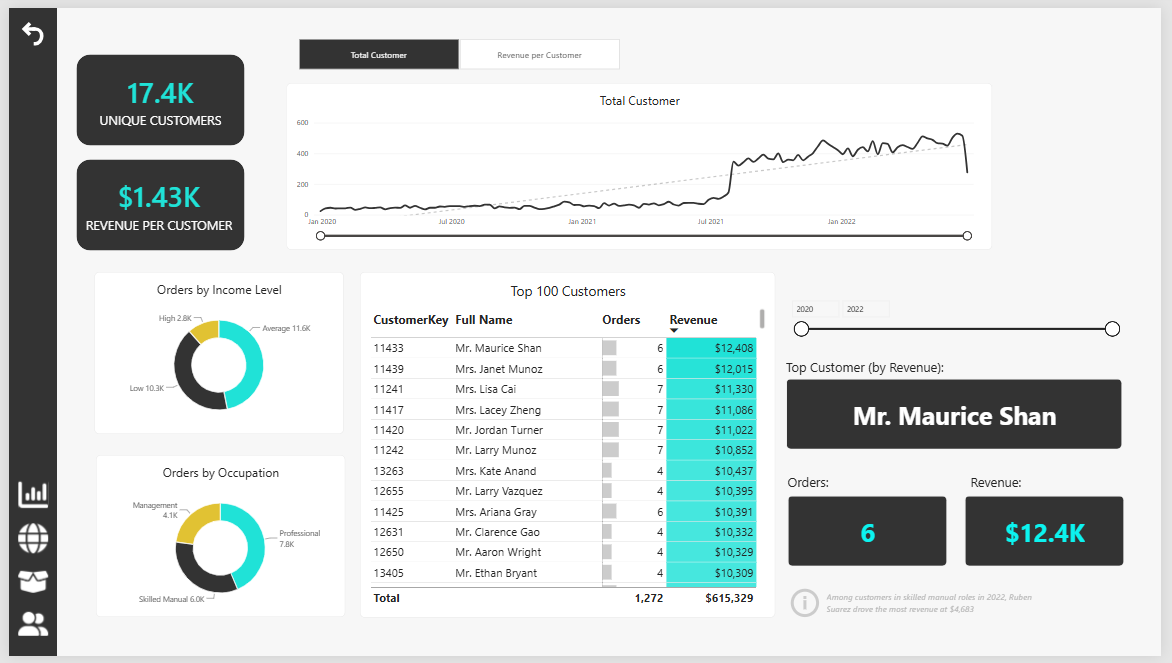

The dashboard page shown, as its layout file describes it:
{"tool":"powerbi","page":{"name":"Customer Detail","canvas":[1920,1080],"ordinal":3},"visuals":[{"type":"shape","box":[0,0,80,1080],"z":0},{"type":"actionButton","box":[0,774,80,72],"z":0,"group":"g3"},{"type":"lineChart","fields":{"Category":["Calendar Lookup.Date Hierarchy.Start of year","Calendar Lookup.Date Hierarchy.Start of month","Calendar Lookup.Date Hierarchy.Start of week","Calendar Lookup.Date Hierarchy.Date"],"Y":["Measure Table.Total Customer"]},"box":[462,126,1176,278],"z":1000},{"type":"actionButton","box":[0,846,80,72],"z":1000,"group":"g3"},{"type":"shape","box":[111.7,78.3,280,151.7],"z":1500,"group":"g1"},{"type":"cardVisual","fields":{"Data":["Measure Table.Total Customer"]},"box":[121.7,110,260,90],"z":1750,"group":"g1"},{"type":"donutChart","title":"Orders by Income Level","fields":{"Category":["Customer Lookup.Income Level"],"Y":["Measure Table.Total Orders"]},"box":[142,440,415,270],"z":2000},{"type":"actionButton","box":[0,918,80,72],"z":2000,"group":"g3"},{"type":"donutChart","title":"Orders by Occupation","fields":{"Category":["Customer Lookup.Occupation"],"Y":["Measure Table.Total Orders"]},"box":[144,746,415,270],"z":3000},{"type":"actionButton","box":[0,990,80,72],"z":3000,"group":"g3"},{"type":"group","id":"g1","title":"Group 1","box":[111.7,78.3,280,151.7],"z":4000},{"type":"shape","box":[111.7,251.7,280,151.7],"z":4000,"group":"g2"},{"type":"cardVisual","fields":{"Data":["Measure Table.Average Revenue per Customer"]},"box":[106.7,281.7,285,92.5],"z":4500,"group":"g2"},{"type":"group","id":"g2","title":"Group 2","box":[106.7,251.7,285,151.7],"z":5000},{"type":"tableEx","title":"Top 100 Customers","fields":{"Values":["Customer Lookup.CustomerKey","Customer Lookup.Full Name","Measure Table.Total Orders","Measure Table.Total Revenue"]},"box":[584,440,692,576],"z":6000},{"type":"cardVisual","fields":{"Data":["Customer Lookup.Full Name (Customer Detail)"]},"box":[1296,618,560,118],"z":7000},{"type":"cardVisual","fields":{"Data":["Measure Table.Total Orders (Customer Detail)"]},"box":[1298.7,813.3,266,118],"z":8000},{"type":"cardVisual","fields":{"Data":["Measure Table.Total Revenue (Customer Detail)"]},"box":[1592.7,813.3,266,118],"z":9000},{"type":"textbox","box":[1296,582,402,58],"z":10000},{"type":"textbox","box":[1296.7,775.7,123.3,58.3],"z":11000},{"type":"textbox","box":[1601.7,775.7,123.3,58.3],"z":12000},{"type":"slicer","fields":{"Values":["Calendar Lookup.Year"]},"box":[1298,482,558,94],"z":13000},{"type":"actionButton","box":[1298,952,454,78],"z":14000},{"type":"actionButton","box":[0,0,80,85],"z":15000},{"type":"group","id":"g3","title":"Navigation Buttons","box":[0,774,80,288],"z":16000},{"type":"slicer","fields":{"Values":["Customer Metric Selection.Customer Metric Selection"]},"box":[462,50,574,54],"z":17000}]}

Visuals, with their boxes on the page's 1920x1080 design canvas (x1, y1, x2, y2). These are canvas units, not pixel positions in the 1172x663 screenshot, which may show the page scaled, cropped or inside an application window:
shape: box(0, 0, 80, 1080)
actionButton: box(0, 774, 80, 846)
lineChart - Calendar Lookup.Date Hierarchy.Start of year x Calendar Lookup.Date Hierarchy.Start of month: box(462, 126, 1638, 404)
actionButton: box(0, 846, 80, 918)
shape: box(112, 78, 392, 230)
cardVisual - Measure Table.Total Customer: box(122, 110, 382, 200)
"Orders by Income Level" donutChart: box(142, 440, 557, 710)
actionButton: box(0, 918, 80, 990)
"Orders by Occupation" donutChart: box(144, 746, 559, 1016)
actionButton: box(0, 990, 80, 1062)
"Group 1" group: box(112, 78, 392, 230)
shape: box(112, 252, 392, 403)
cardVisual - Measure Table.Average Revenue per Customer: box(107, 282, 392, 374)
"Group 2" group: box(107, 252, 392, 403)
"Top 100 Customers" tableEx: box(584, 440, 1276, 1016)
cardVisual - Customer Lookup.Full Name (Customer Detail): box(1296, 618, 1856, 736)
cardVisual - Measure Table.Total Orders (Customer Detail): box(1299, 813, 1565, 931)
cardVisual - Measure Table.Total Revenue (Customer Detail): box(1593, 813, 1859, 931)
textbox: box(1296, 582, 1698, 640)
textbox: box(1297, 776, 1420, 834)
textbox: box(1602, 776, 1725, 834)
slicer - Calendar Lookup.Year: box(1298, 482, 1856, 576)
actionButton: box(1298, 952, 1752, 1030)
actionButton: box(0, 0, 80, 85)
"Navigation Buttons" group: box(0, 774, 80, 1062)
slicer - Customer Metric Selection.Customer Metric Selection: box(462, 50, 1036, 104)
